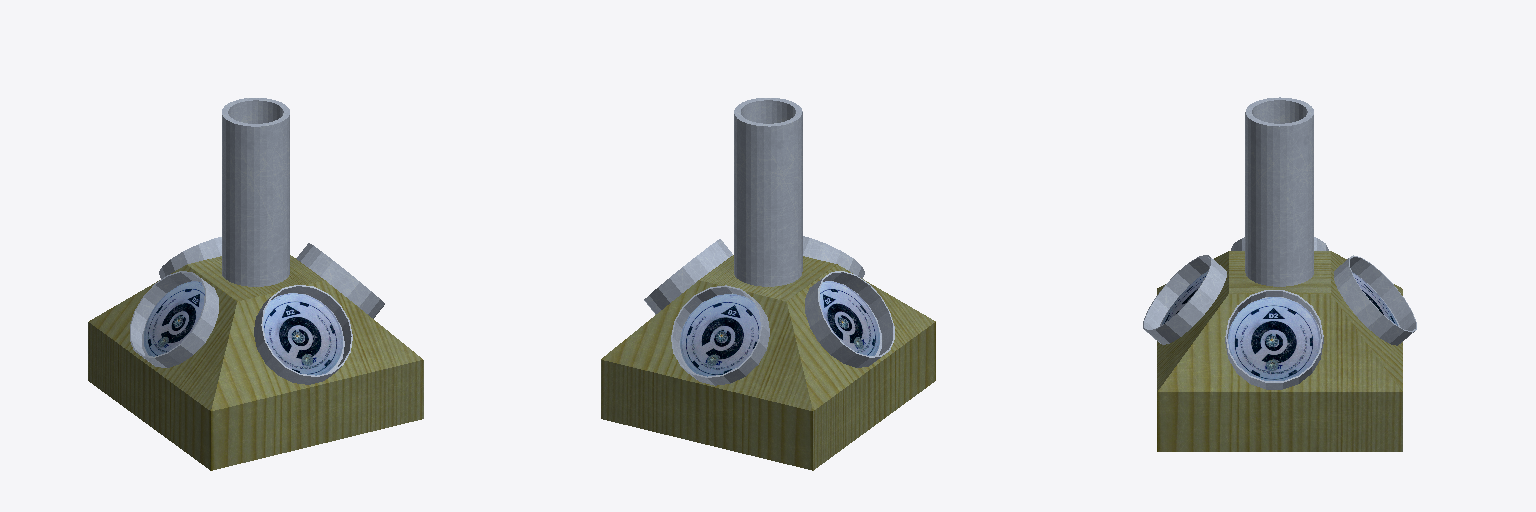
3 renders of one model, left to right at view 1: azimuth 30°, elevation 25°; view 2: azimuth 150°, elevation 25°; view 3: azimuth 270°, elevation 25°, orthographic.
Visible parts, largest first — view 1: Cube; view 2: Cube; view 3: Cube.
Boxes of the visible parts, x1,y1,x2,y2 form: Cube: [88, 98, 423, 470]; Cube: [601, 98, 935, 470]; Cube: [1143, 97, 1416, 451].
Size of the model in its own units: 0.1662 by 0.194 by 0.167.
Materials: 2 (1 with a texture image).